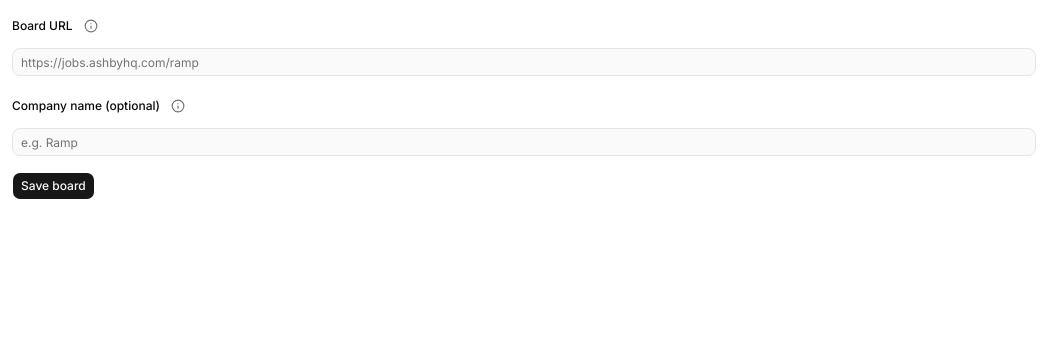
Test case: clears a failed restore when editing the draft for another board
The image size is (1048, 348).
Later steps or results of the test are not shown.
In the field labelled "Company name (optional)": point(524, 142) [12,128,1036,156], type "My company"
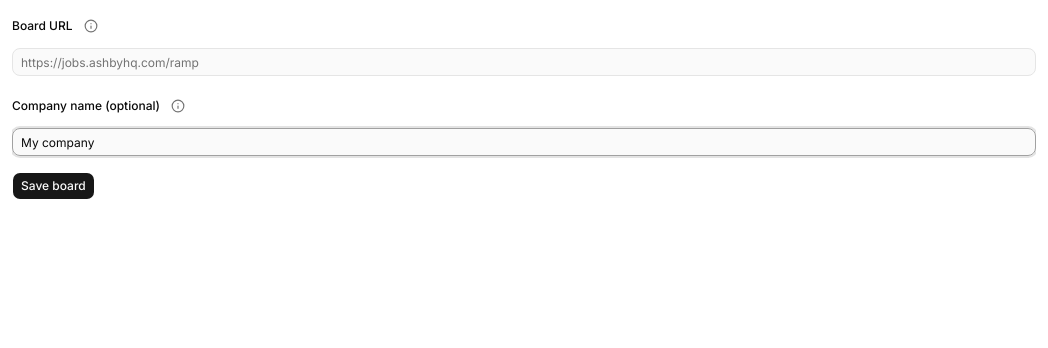
Click the field labelled "Board URL": point(524, 62) [12,48,1036,76]
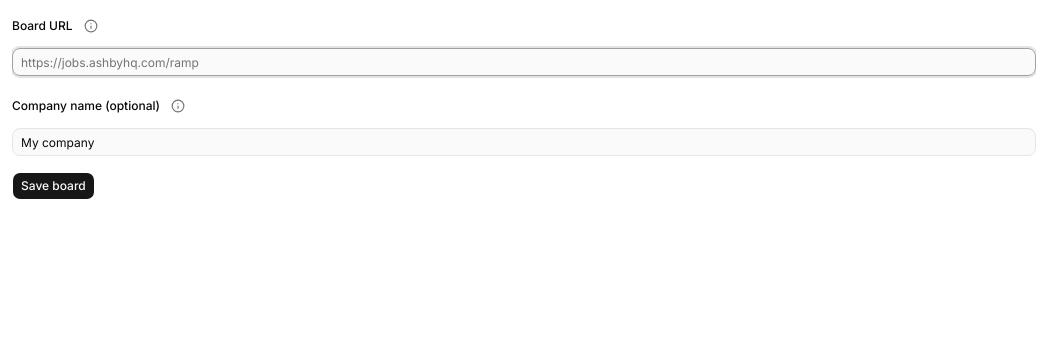
Type keys "https://jobs.ashbyhq.com/notion"
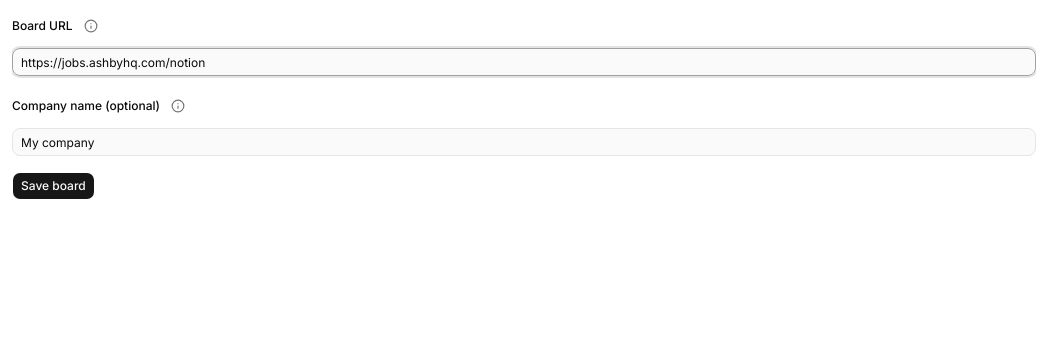
Click the button "Save board": point(53, 186) [12,172,95,200]
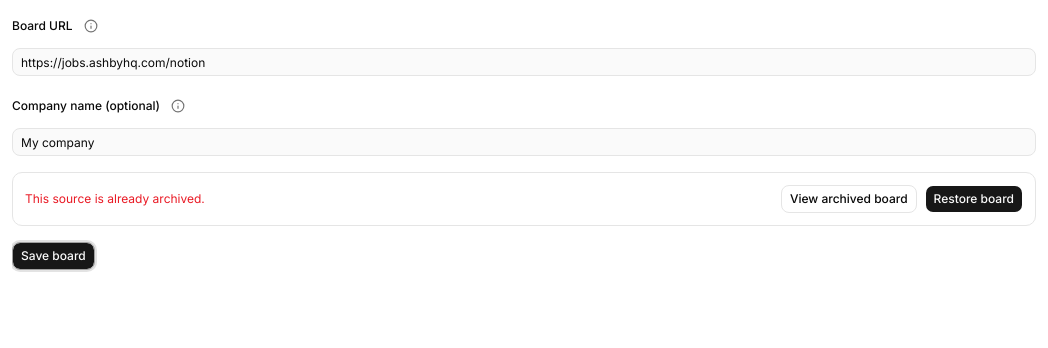
Click the button "Restore board": point(974, 199) [925,185,1023,213]
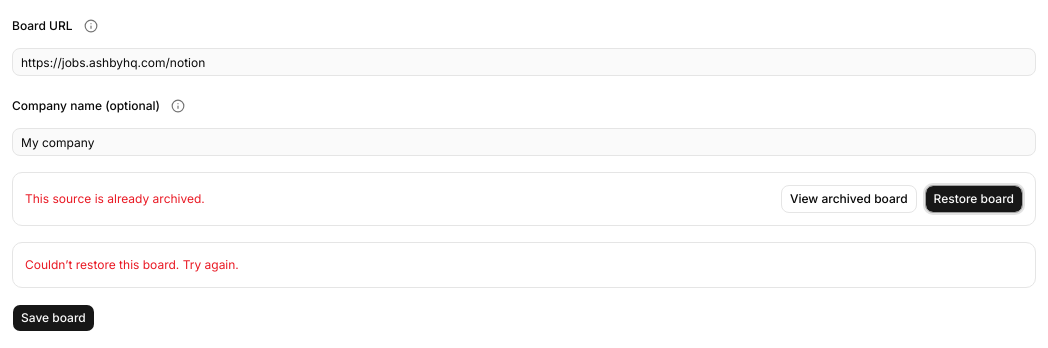
Result: the field labelled "Board URL" holds "https://jobs.ashbyhq.com/notion" at [12,48,1036,76]
Result: the button "Restore board" is enabled at [925,185,1023,213]
Result: the text "Couldn’t restore this board. Try again." is shown at [25,257,239,272]
